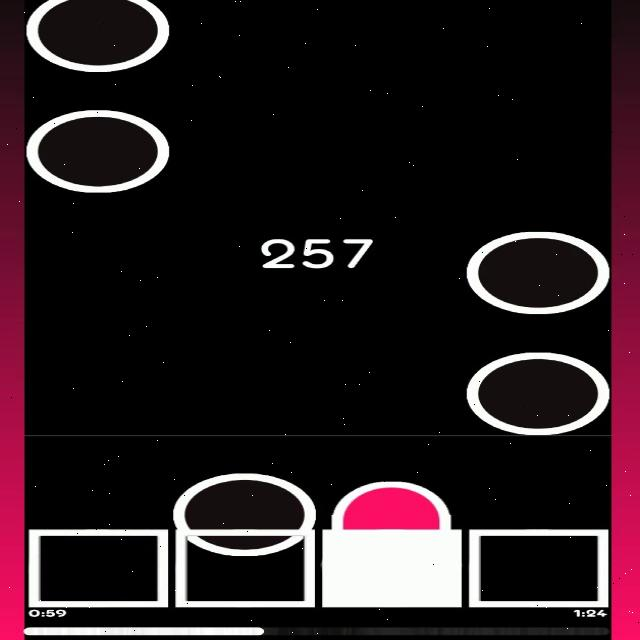end_hold: (329, 475, 454, 517)
note: (461, 348, 612, 439), (464, 225, 609, 316), (26, 107, 170, 197), (171, 471, 313, 556), (25, 0, 174, 71)
